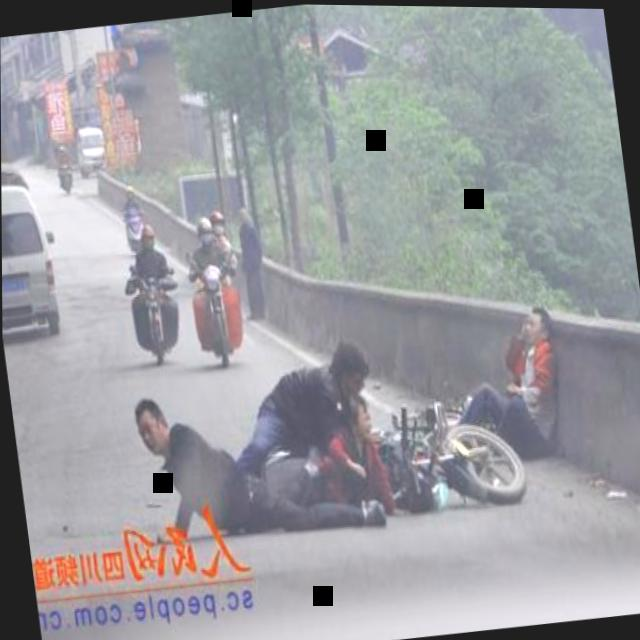Fall-Detected: (213, 309, 387, 495)
